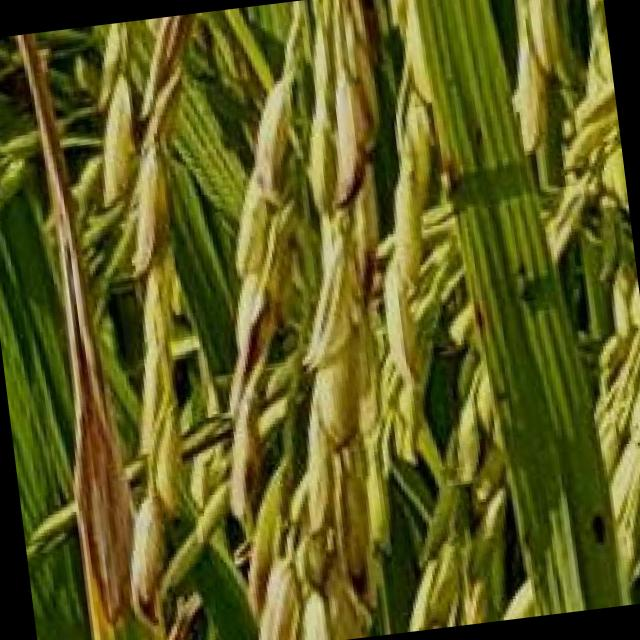Rice_Bacterial_Blight: (6, 29, 155, 626)
